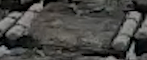bag: (4, 3, 141, 55)
